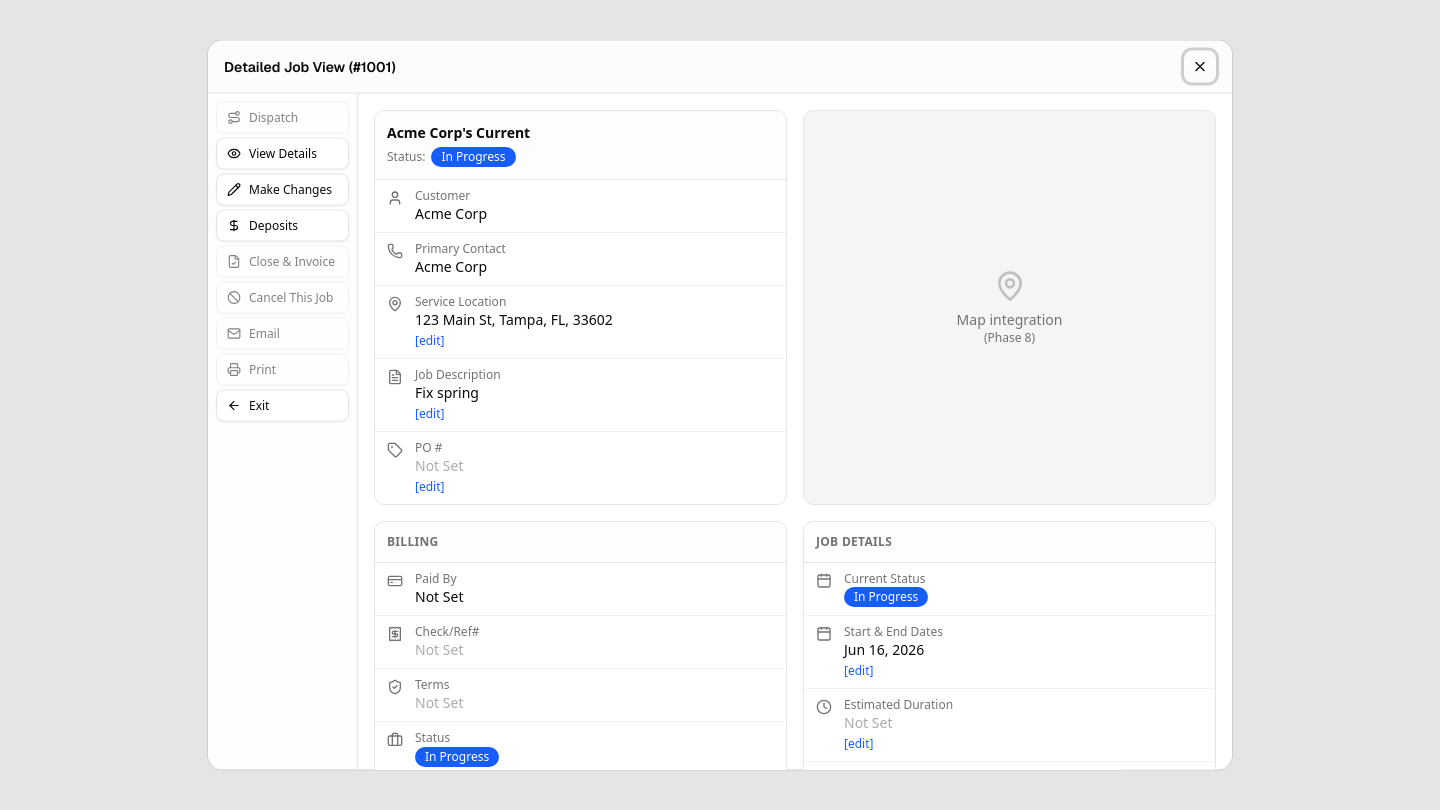
Test: DispatchPopup — Service Location editor › opens the location select when [edit] is clicked
The width and height of the screenshot is (1440, 810).
What coordinates should you click on to do the following:
click the button "[edit]" below "123 Main St, Tampa, FL, 33602"
I would click on:
 (430, 340)
Its box is [415, 332, 444, 348].
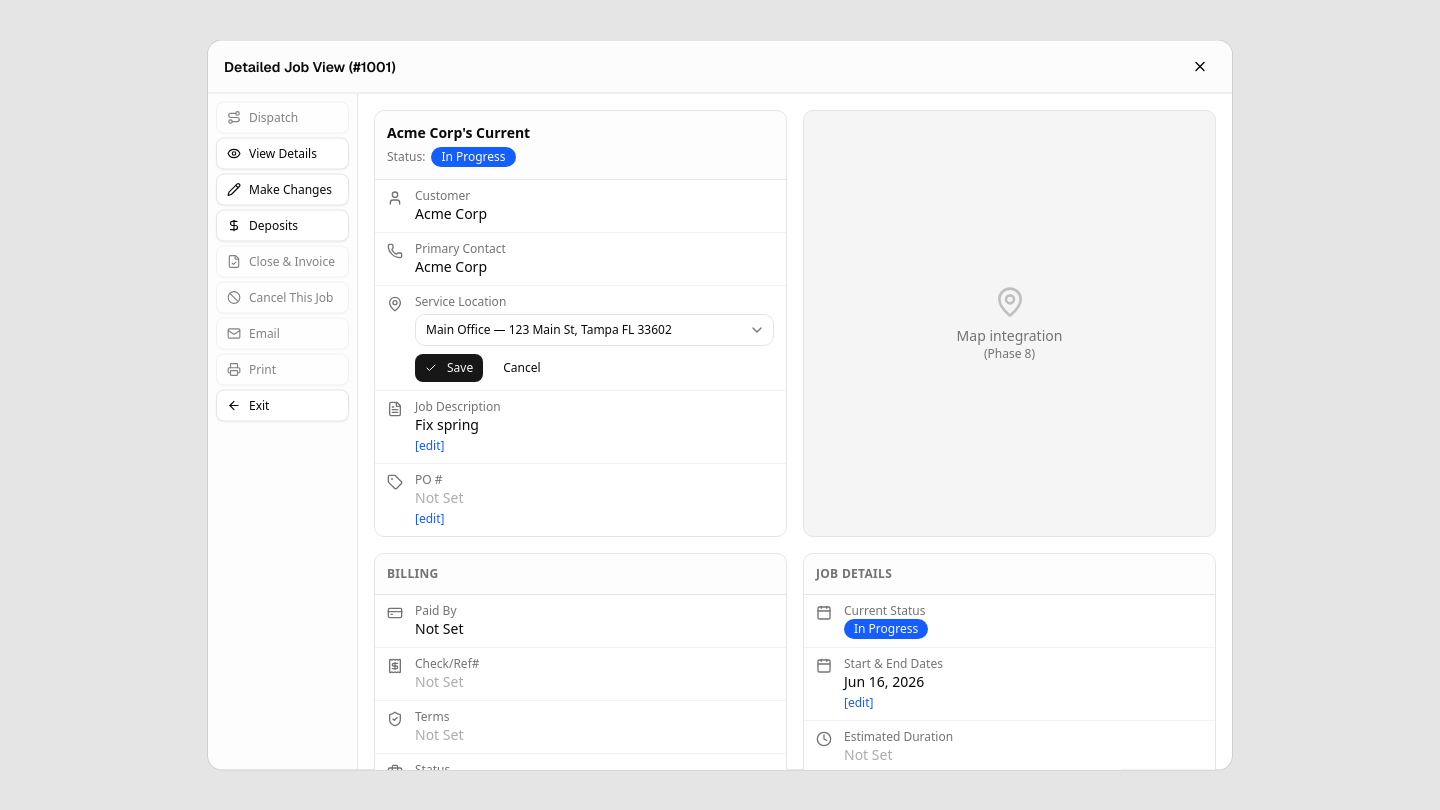
Expected: the dropdown is shown, [415, 314, 774, 346]
Expected: the button "Save" is shown, [415, 354, 483, 382]
Expected: the button "Cancel" is shown, [491, 354, 553, 382]
